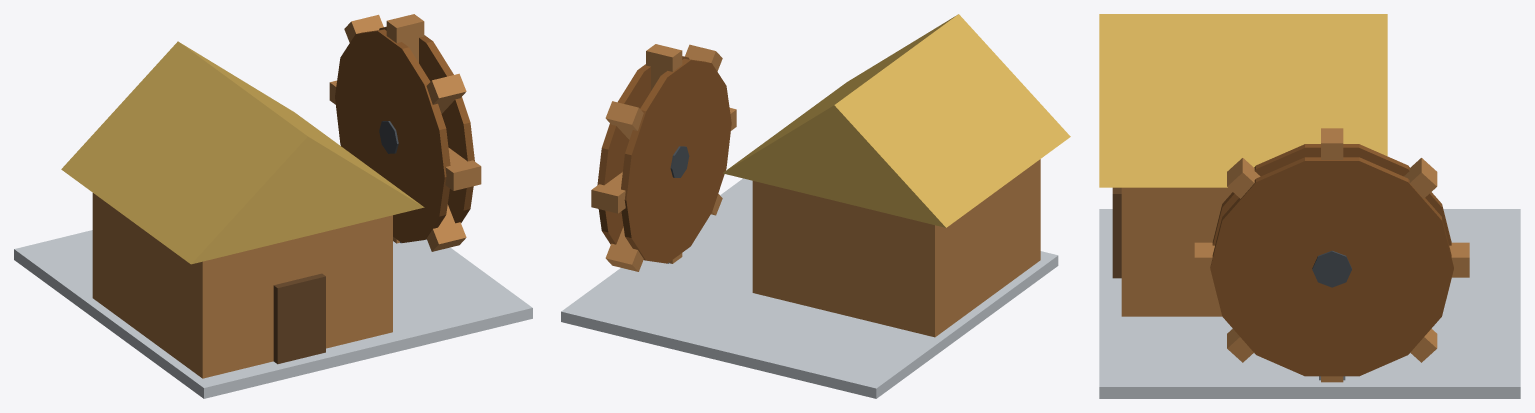
Rendered from waterwheel_0.glb.
3 renders of one model, left to right at view 1: azimuth 30°, elevation 25°; view 2: azimuth 150°, elevation 25°; view 3: azimuth 270°, elevation 25°, orthographic. The views are drawn at different scales.
Parts seen in each view (by area): view 1: palha.002, madeira.003, pedra_clara.001, wheel_roda_madeira, wheel_madeira, porta.008, wheel_metal; view 2: palha.002, pedra_clara.001, madeira.003, wheel_roda_madeira, wheel_madeira, wheel_metal; view 3: palha.002, wheel_roda_madeira, pedra_clara.001, madeira.003, wheel_madeira, wheel_metal, porta.008.
Part boxes in pixels (<box>): palha.002: <box>61,41,424,264</box>; madeira.003: <box>92,193,392,378</box>; pedra_clara.001: <box>14,230,532,398</box>; wheel_roda_madeira: <box>335,26,474,242</box>; wheel_madeira: <box>329,14,481,251</box>; porta.008: <box>273,273,325,364</box>; wheel_metal: <box>379,121,398,153</box>; palha.002: <box>723,14,1070,227</box>; pedra_clara.001: <box>561,178,1058,398</box>; madeira.003: <box>752,159,1040,337</box>; wheel_roda_madeira: <box>597,56,731,263</box>; wheel_madeira: <box>591,44,736,271</box>; wheel_metal: <box>670,146,689,177</box>; palha.002: <box>1099,14,1387,187</box>; wheel_roda_madeira: <box>1210,144,1453,376</box>; pedra_clara.001: <box>1099,209,1520,398</box>; madeira.003: <box>1121,187,1232,316</box>; wheel_madeira: <box>1194,128,1469,382</box>; wheel_metal: <box>1312,250,1351,287</box>; porta.008: <box>1112,187,1121,278</box>.
Bounding box in the file's own units: 1.97 × 1.31 × 1.9.
